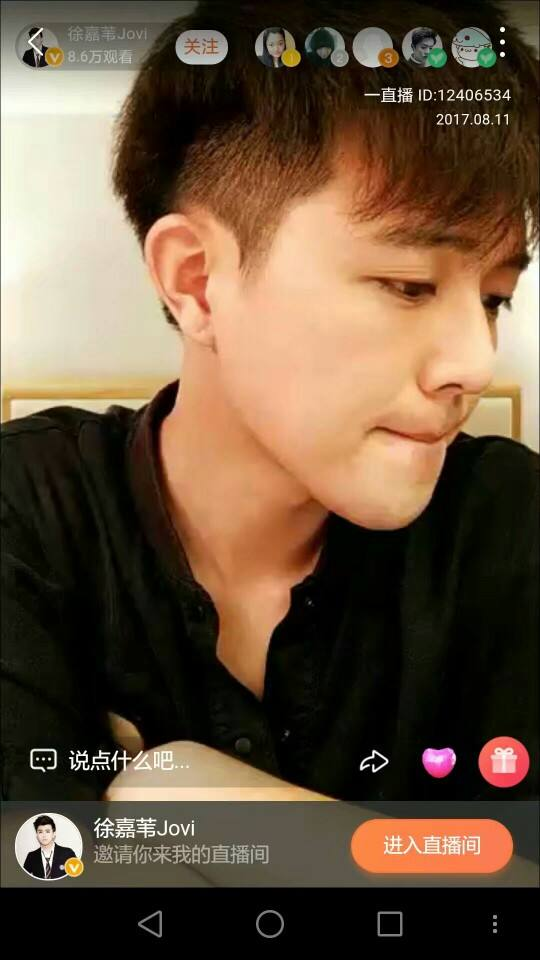person: (16, 57, 505, 604)
